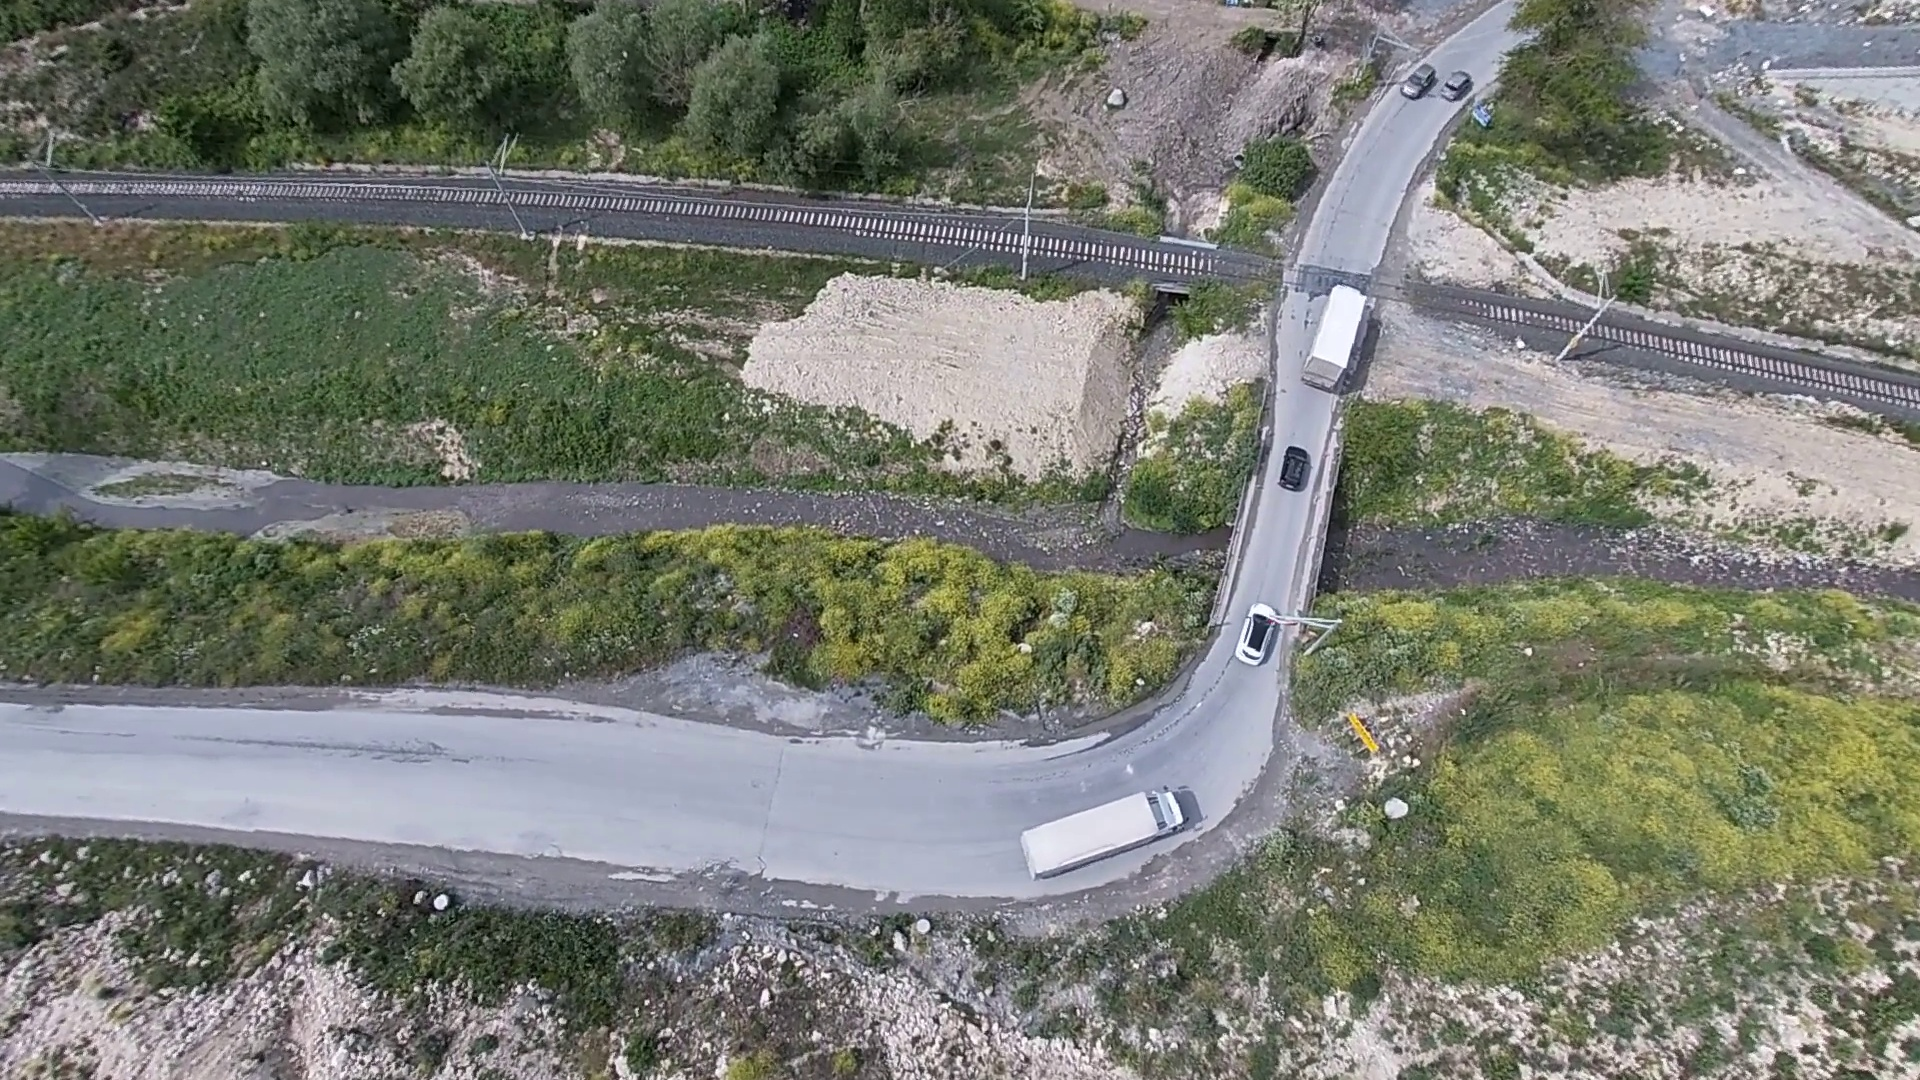arac: (1022, 783, 1215, 880), (1309, 266, 1374, 396), (1229, 603, 1284, 678), (1269, 440, 1317, 505), (1443, 69, 1484, 109), (1398, 62, 1436, 103)
